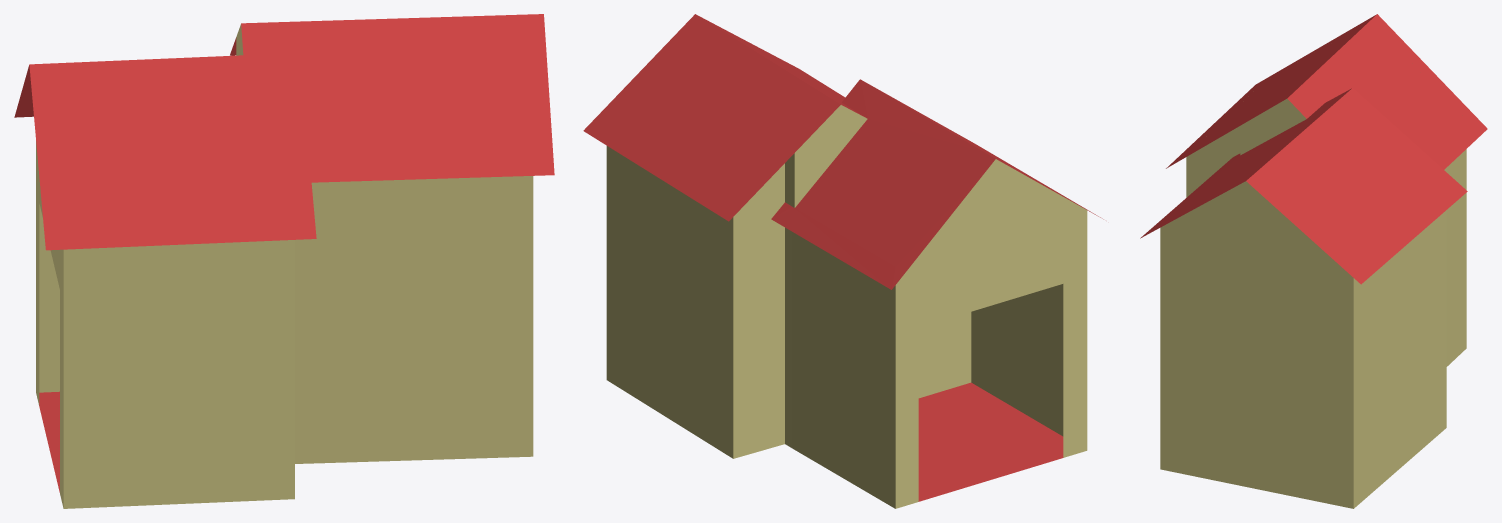
3 views of the same model, side by side, from view 1: azimuth 30°, elevation 25°; view 2: azimuth 150°, elevation 25°; view 3: azimuth 270°, elevation 25° (orthographic). The views are drawn at different scales.
Bounding box in the file's own units: 24.16 × 16.39 × 16.24.
